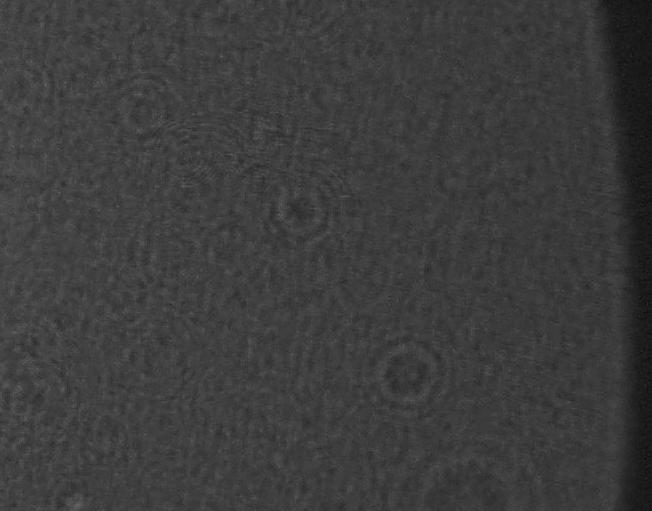bead: (254, 162, 350, 260), (352, 325, 443, 424)
